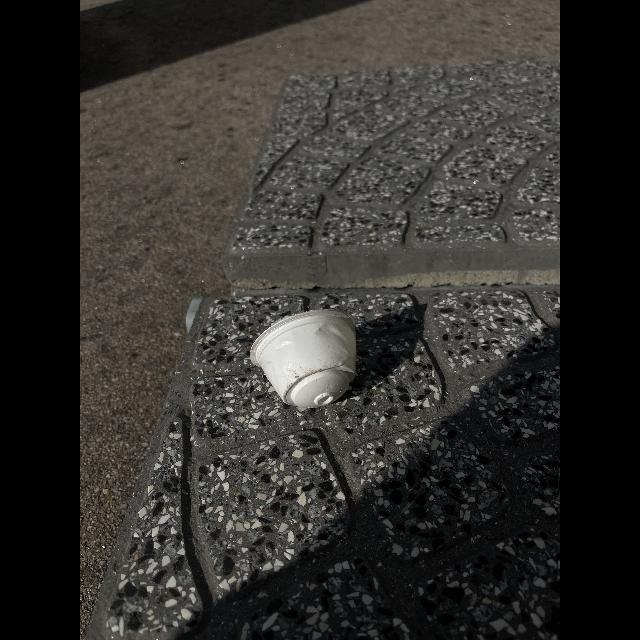damaged_capsule: (244, 305, 368, 419)
